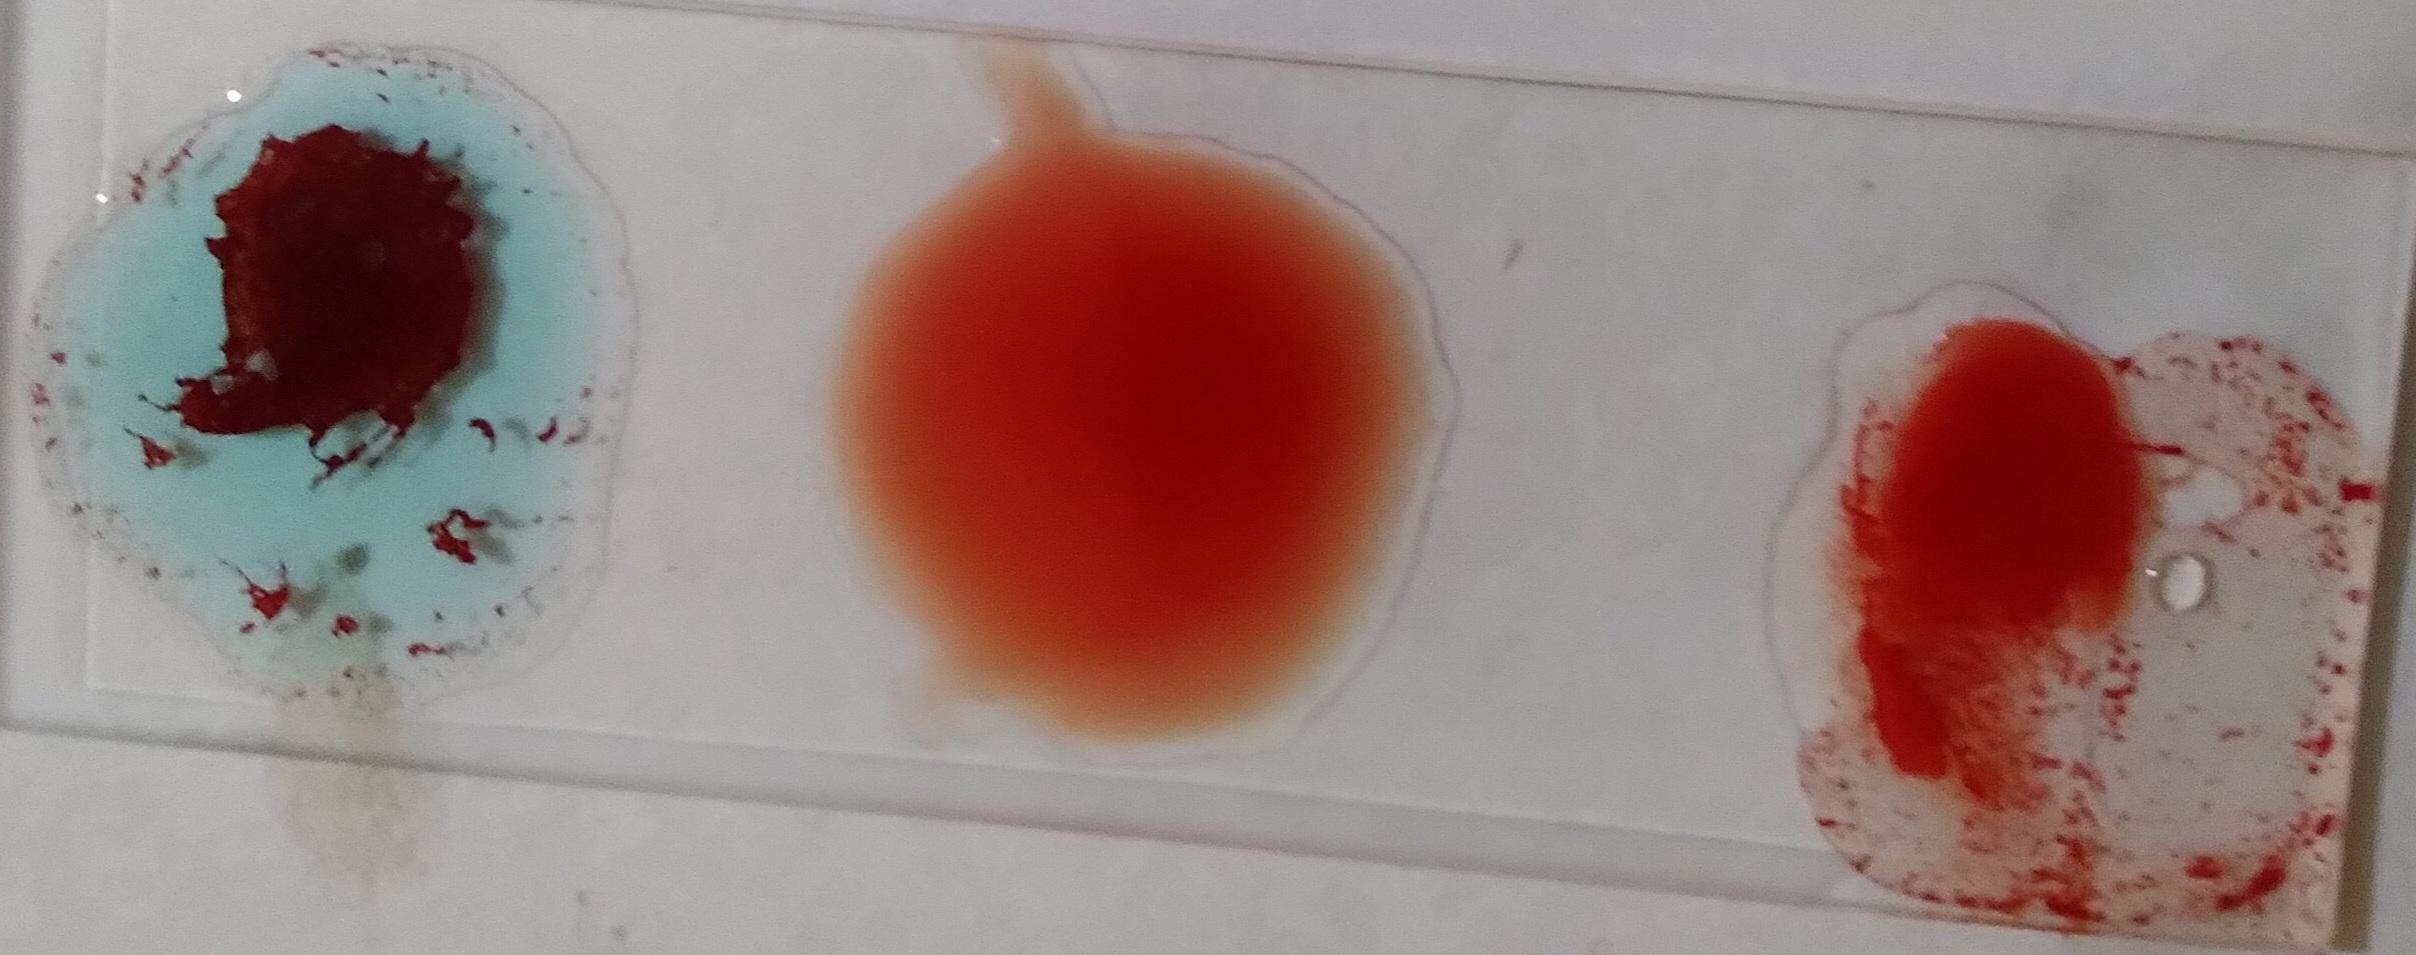A: (51, 46, 639, 690)
D: (1806, 283, 2344, 953)
